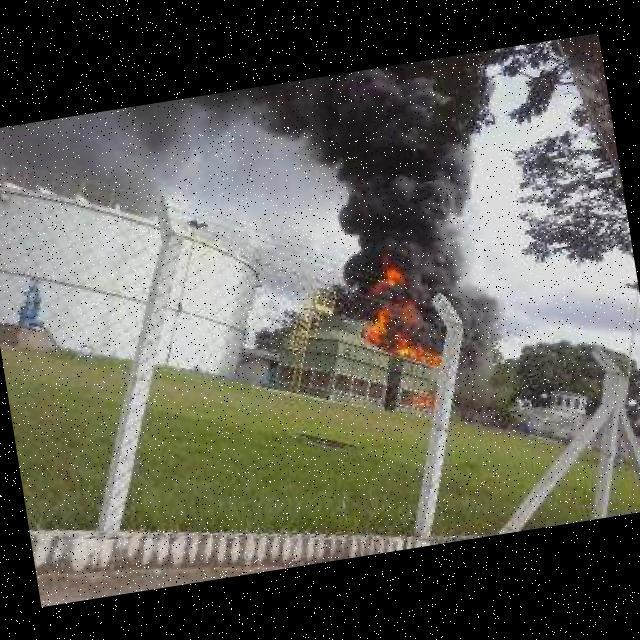Fire: (349, 261, 447, 382)
Smoke: (265, 52, 531, 323)
